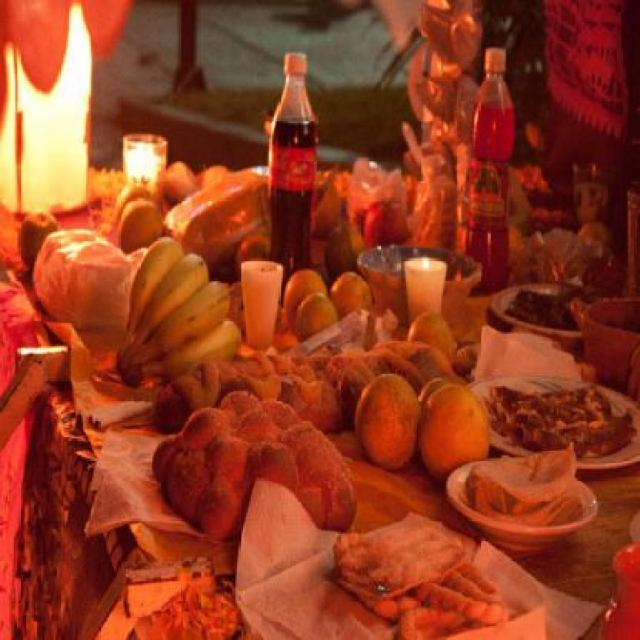Orange: (354, 372, 422, 474), (421, 382, 488, 484), (284, 266, 328, 328), (16, 210, 58, 272), (118, 198, 164, 254), (296, 293, 338, 344), (332, 273, 370, 318), (115, 185, 152, 224)
